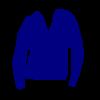felpa: (12, 8, 84, 90)
